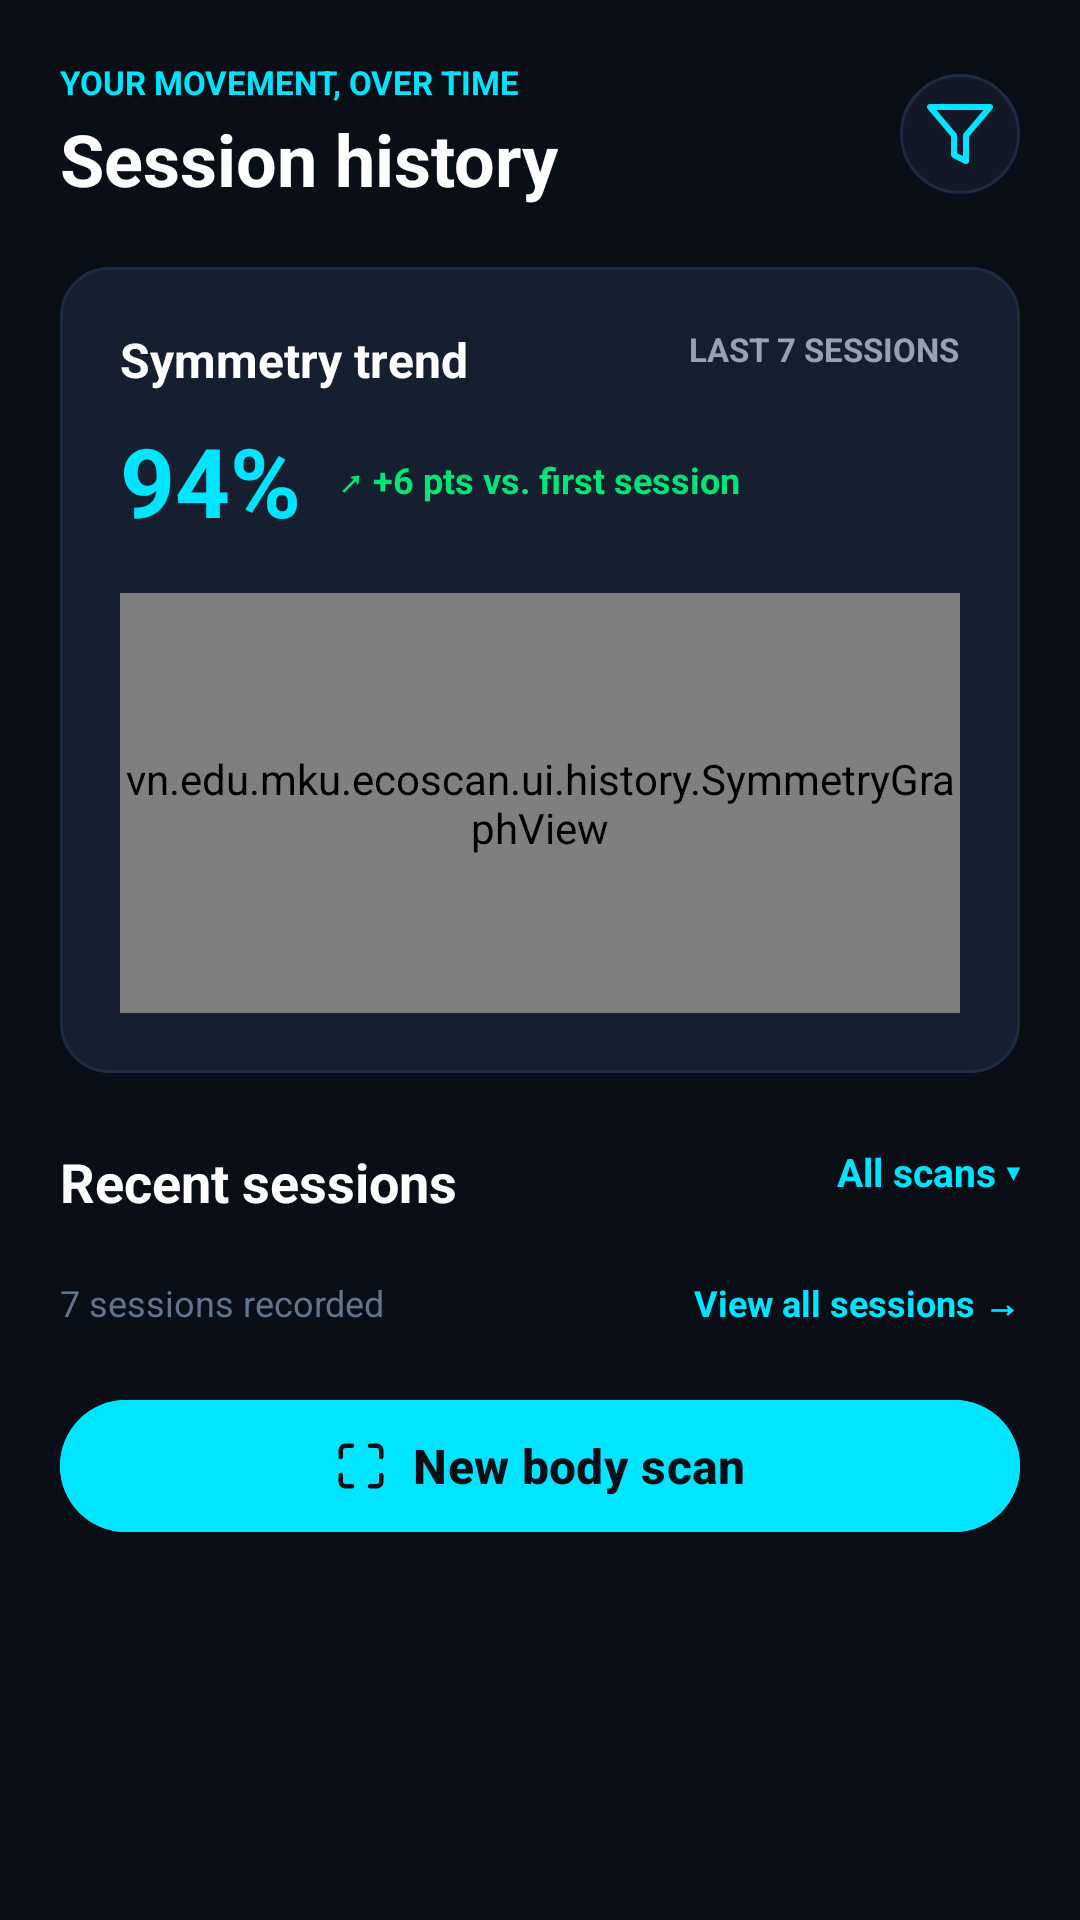

Icons on this 1080 × 1920 Android screen, each with the point to tap as (x,y):
Filter: (960,134)
